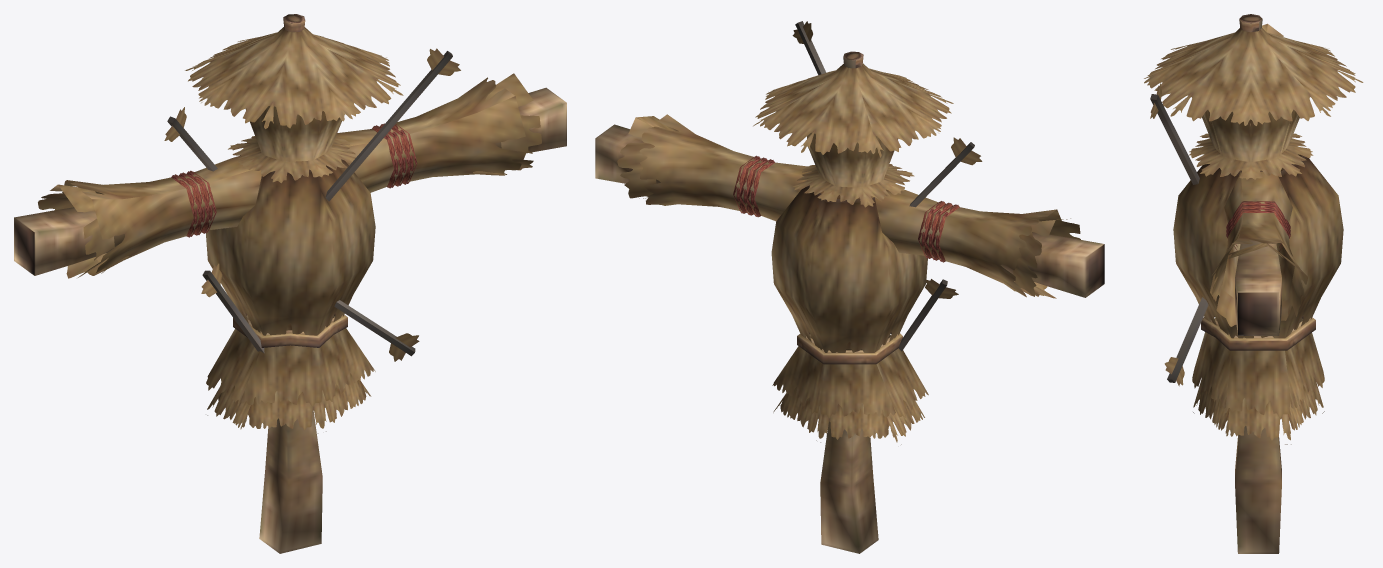
The model's file is DCR.FBX.
3 renders of one model, left to right at view 1: azimuth 30°, elevation 25°; view 2: azimuth 150°, elevation 25°; view 3: azimuth 270°, elevation 25°, orthographic. The views are drawn at different scales.
Visible parts, largest first — view 1: DCR; view 2: DCR; view 3: DCR.
Boxes of the visible parts, x1,y1,x2,y2 form: DCR: (14,14,566,553); DCR: (595,21,1104,553); DCR: (1144,14,1363,553).
Bounding box in the file's own units: 158 × 149 × 60.41.
